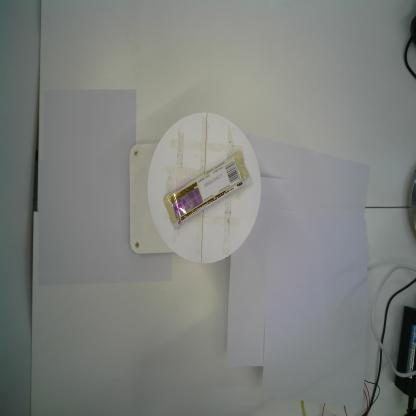Chocolate: (162, 151, 252, 230)
